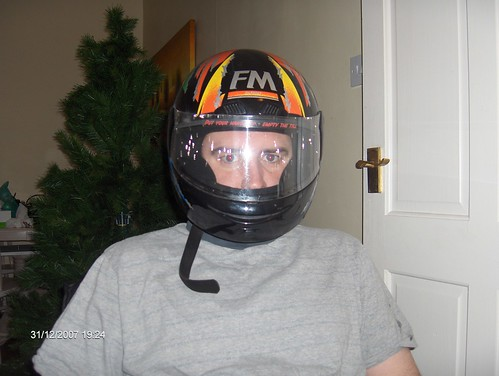helmet: (159, 47, 342, 250)
